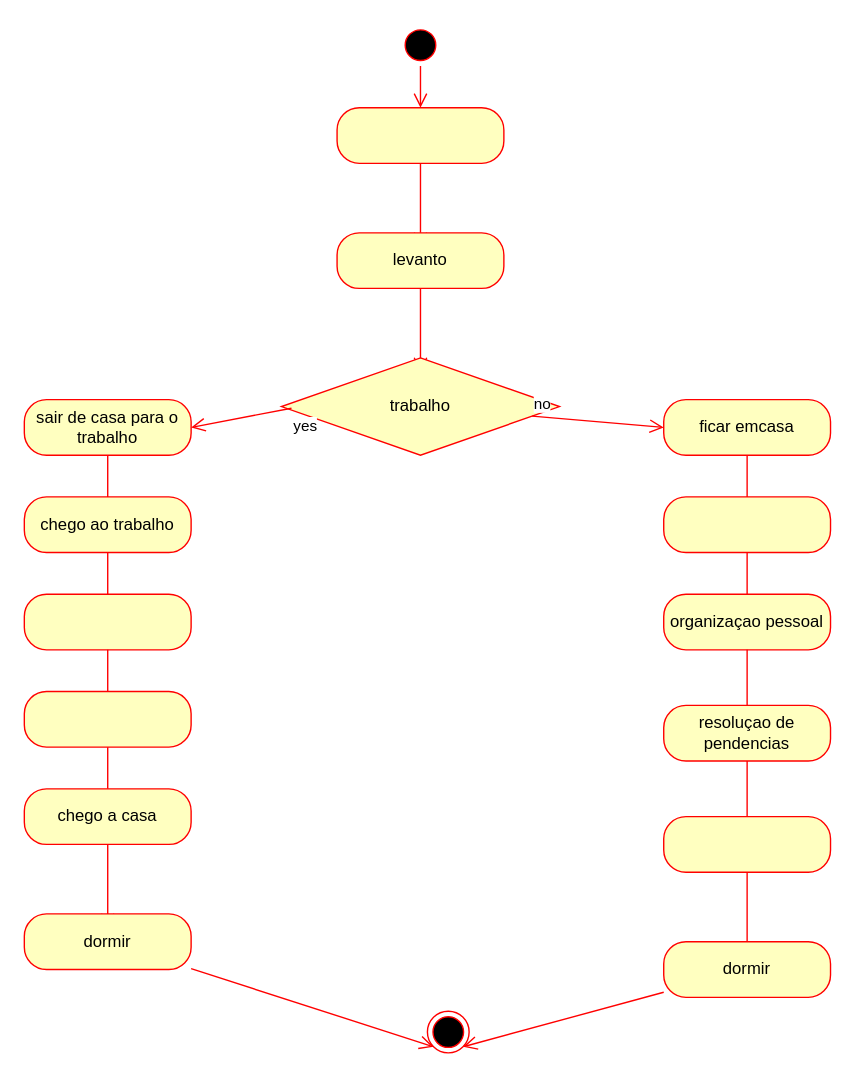
The diagram is 855 pixels wide and 1086 high, and some of its shapes have lost their labels. The shapes that lost their labels are listed below. From the top down, each one's centre as x and y in pixels, then its label:
At point (420, 134): "acordo".
At point (746, 524): "limpo casa".
At point (107, 621): "desenvolvo minhas atividades".
At point (107, 718): "volto para casa".
At point (746, 843): "descansar".
